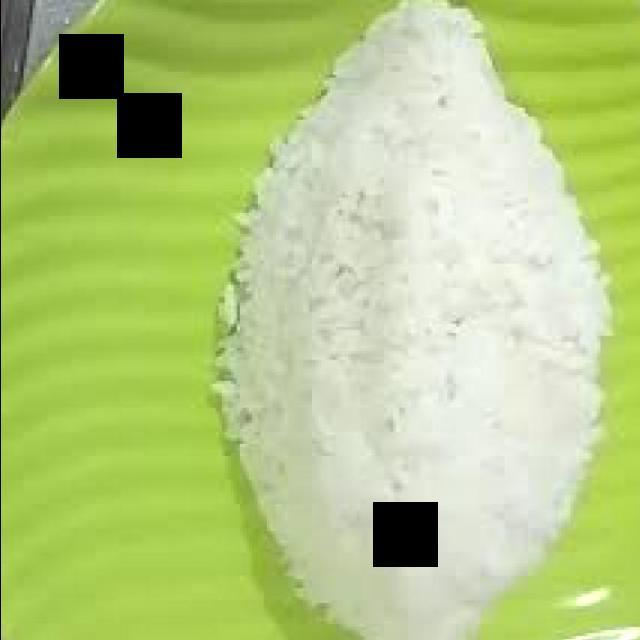rice: (208, 0, 609, 640)
